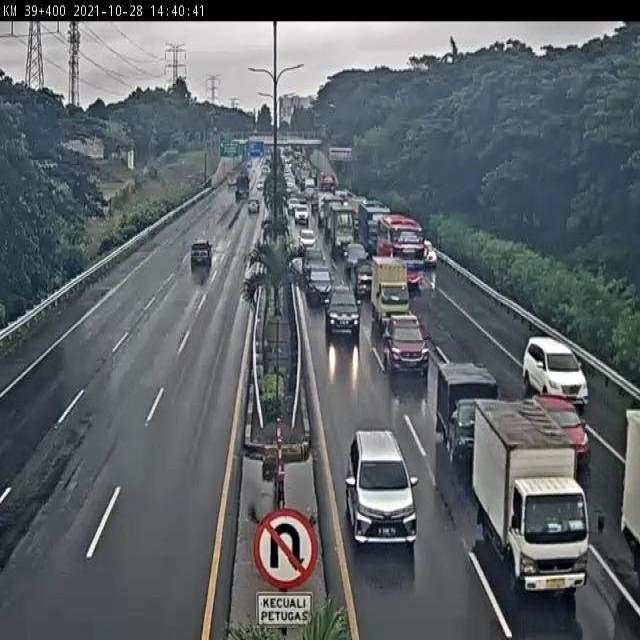big bus: (374, 217, 422, 288)
car: (345, 428, 418, 545), (522, 333, 591, 407), (531, 392, 589, 468), (382, 313, 430, 372), (323, 283, 360, 332), (307, 260, 335, 301), (342, 241, 368, 271), (189, 238, 213, 266), (355, 259, 375, 292), (301, 245, 325, 271)
small truck: (471, 400, 590, 595), (435, 364, 500, 461), (371, 257, 410, 327)
